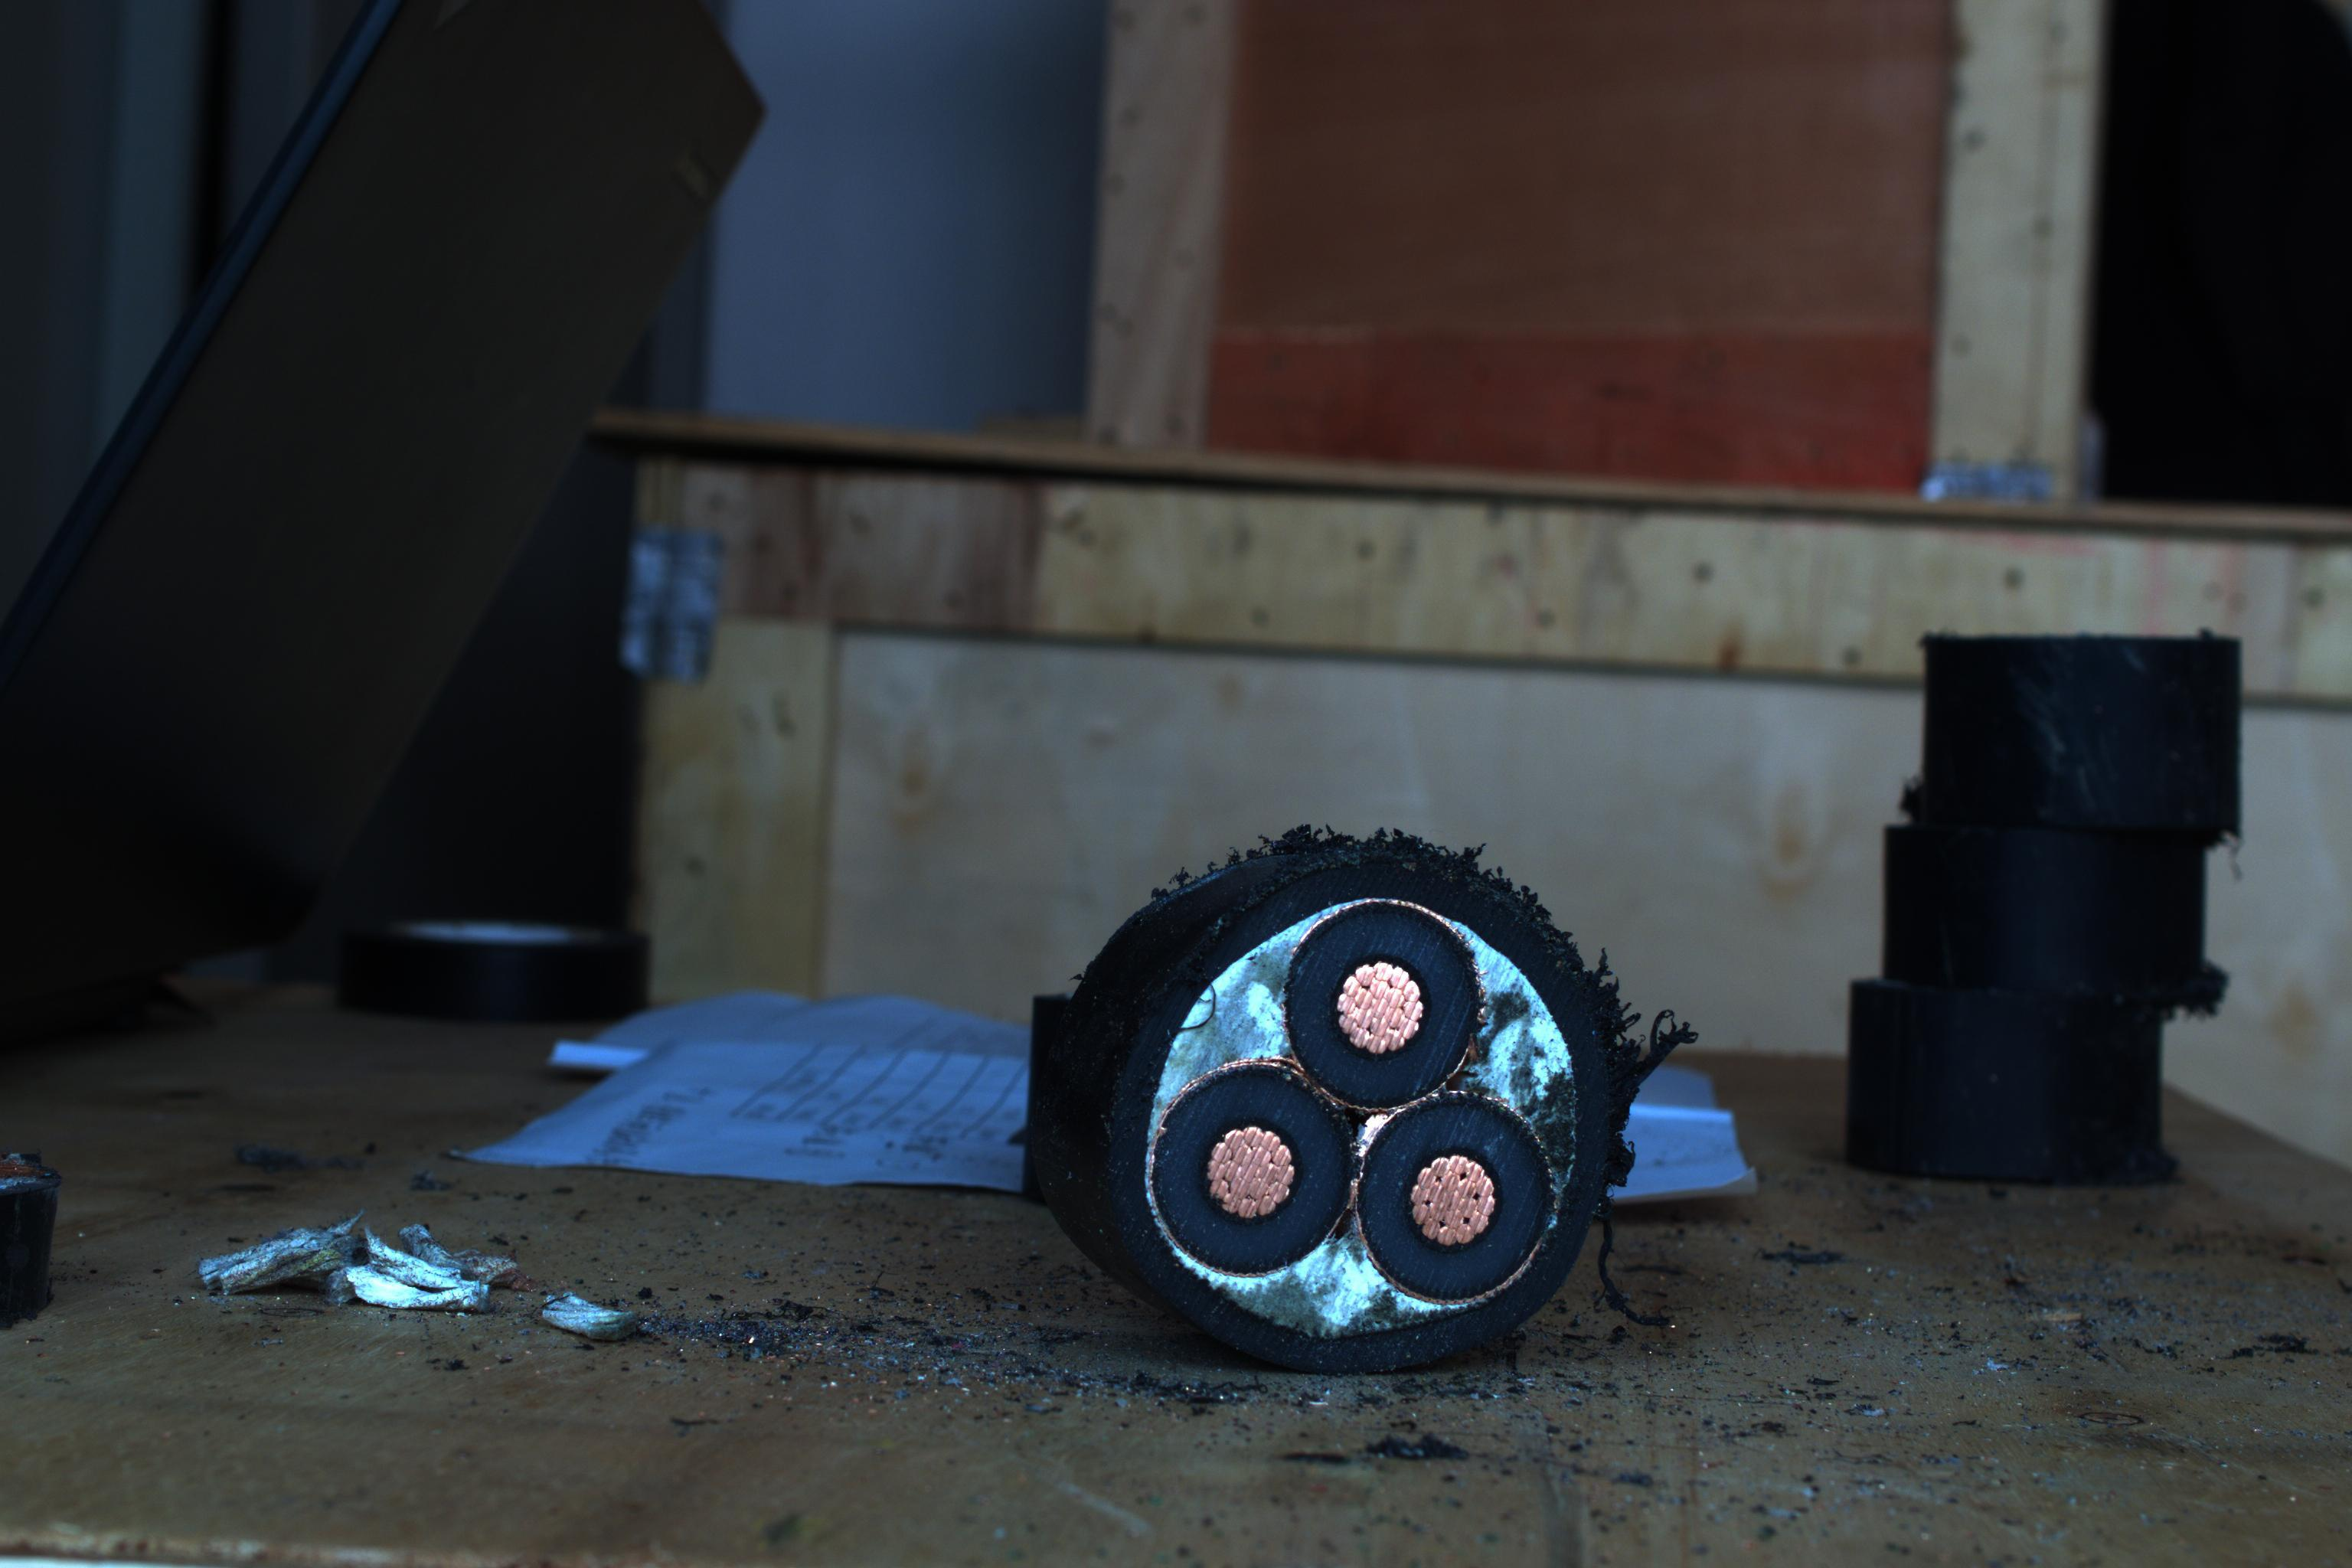YJV_8.7_10kV_3x70: (1069, 810, 1633, 1379)
